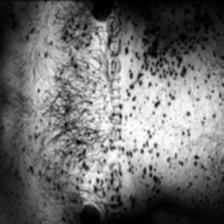Non-Cancerous Skin Condition: (4, 0, 96, 224), (134, 0, 224, 224)
